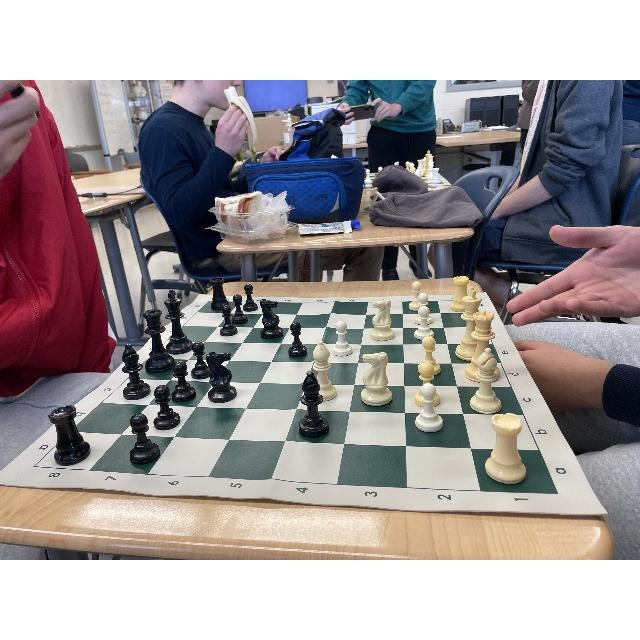black-pawn: (297, 374, 330, 438), (204, 352, 239, 404), (127, 413, 163, 461), (150, 382, 182, 428), (119, 351, 148, 392), (172, 356, 196, 395), (258, 302, 280, 338), (218, 299, 239, 333), (287, 321, 307, 355)
black-rook: (49, 402, 99, 463), (166, 298, 192, 352), (147, 316, 171, 369), (209, 275, 231, 308), (238, 284, 257, 310)
white-bishop: (472, 351, 501, 419), (362, 352, 392, 408), (314, 333, 338, 395), (449, 281, 471, 313)
white-pawn: (413, 384, 444, 438), (368, 295, 395, 339), (328, 317, 352, 354)
white-queen: (417, 324, 440, 388), (417, 298, 438, 359)
white-rook: (488, 419, 530, 485)
